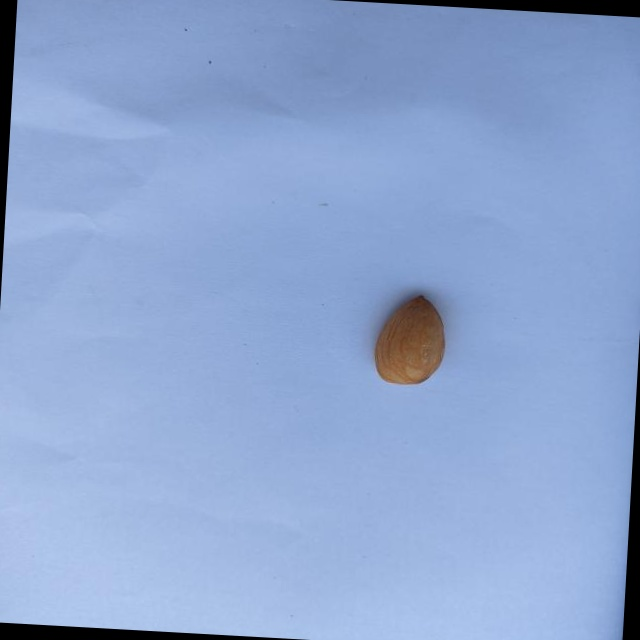grade2: (366, 290, 451, 390)
